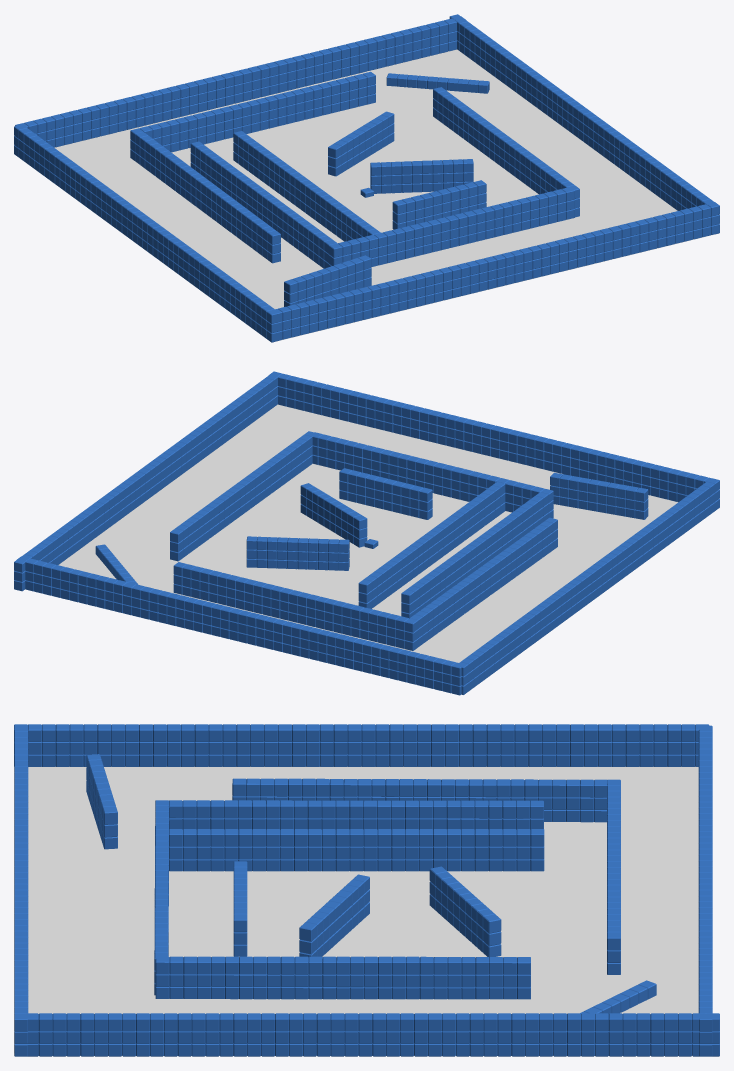
File: location1-raw.glb
3 views of the same model, one above another, from view 1: azimuth 30°, elevation 25°; view 2: azimuth 150°, elevation 25°; view 3: azimuth 270°, elevation 25° (orthographic). The views are drawn at different scales.
Parts seen in each view (by area): view 1: ground, border1, border4, border3, border2, bblock.004, bblock.001, bblock.002, bblock.003, bblock.005, bblock.006, bblock.007 (+4 smaller); view 2: ground, border4, border1, border3, border2, bblock.001, bblock.004, bblock.005, bblock.006, bblock.002, bblock.003, bblock.009 (+4 smaller); view 3: ground, border2, border3, bblock.006, bblock.005, bblock.003, bblock.002, border1, border4, bblock.009, bblock.007, bblock.001 (+4 smaller).
Part boxes in pixels (box(x1,y1,x2,y2)): ground: box(54, 49, 714, 340); border1: box(270, 202, 719, 340); border4: box(15, 16, 465, 147); border3: box(14, 126, 279, 342); border2: box(449, 14, 714, 210); bblock.004: box(329, 187, 574, 266); bblock.001: box(130, 71, 375, 160); bblock.002: box(135, 132, 280, 263); bblock.003: box(190, 141, 337, 268); bblock.005: box(233, 131, 380, 241); bblock.006: box(433, 87, 579, 217); bblock.007: box(370, 159, 473, 193); ground: box(58, 404, 677, 662); border4: box(17, 556, 462, 695); border1: box(269, 371, 716, 502); border3: box(458, 478, 719, 694); border2: box(14, 375, 278, 591); bblock.001: box(173, 562, 417, 650); bblock.004: box(312, 432, 553, 518); bblock.005: box(358, 482, 505, 608); bblock.006: box(170, 431, 315, 561); bblock.002: box(410, 517, 557, 647); bblock.003: box(401, 492, 548, 618); bblock.009: box(246, 536, 349, 570); ground: box(14, 766, 698, 1052); border2: box(26, 1013, 719, 1056); border3: box(14, 724, 709, 766); bblock.006: box(155, 956, 530, 999); bblock.005: box(169, 829, 544, 871); bblock.003: box(169, 800, 543, 829); bblock.002: box(232, 778, 607, 822); border1: box(14, 725, 28, 1056); border4: box(698, 725, 712, 1056); bblock.009: box(429, 866, 501, 957); bblock.007: box(299, 874, 369, 957); bblock.001: box(607, 779, 620, 974).
Bounding box in the file's own units: 22.39 × 1.55 × 22.62.
